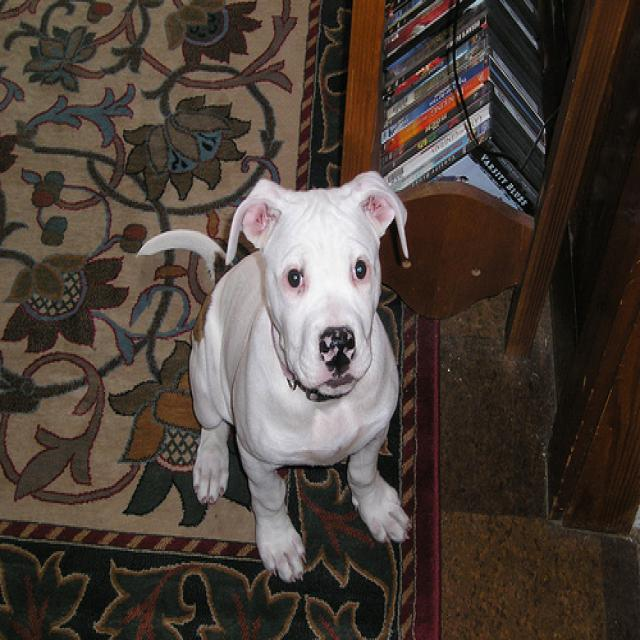dog-american_bulldog: (128, 157, 415, 599)
